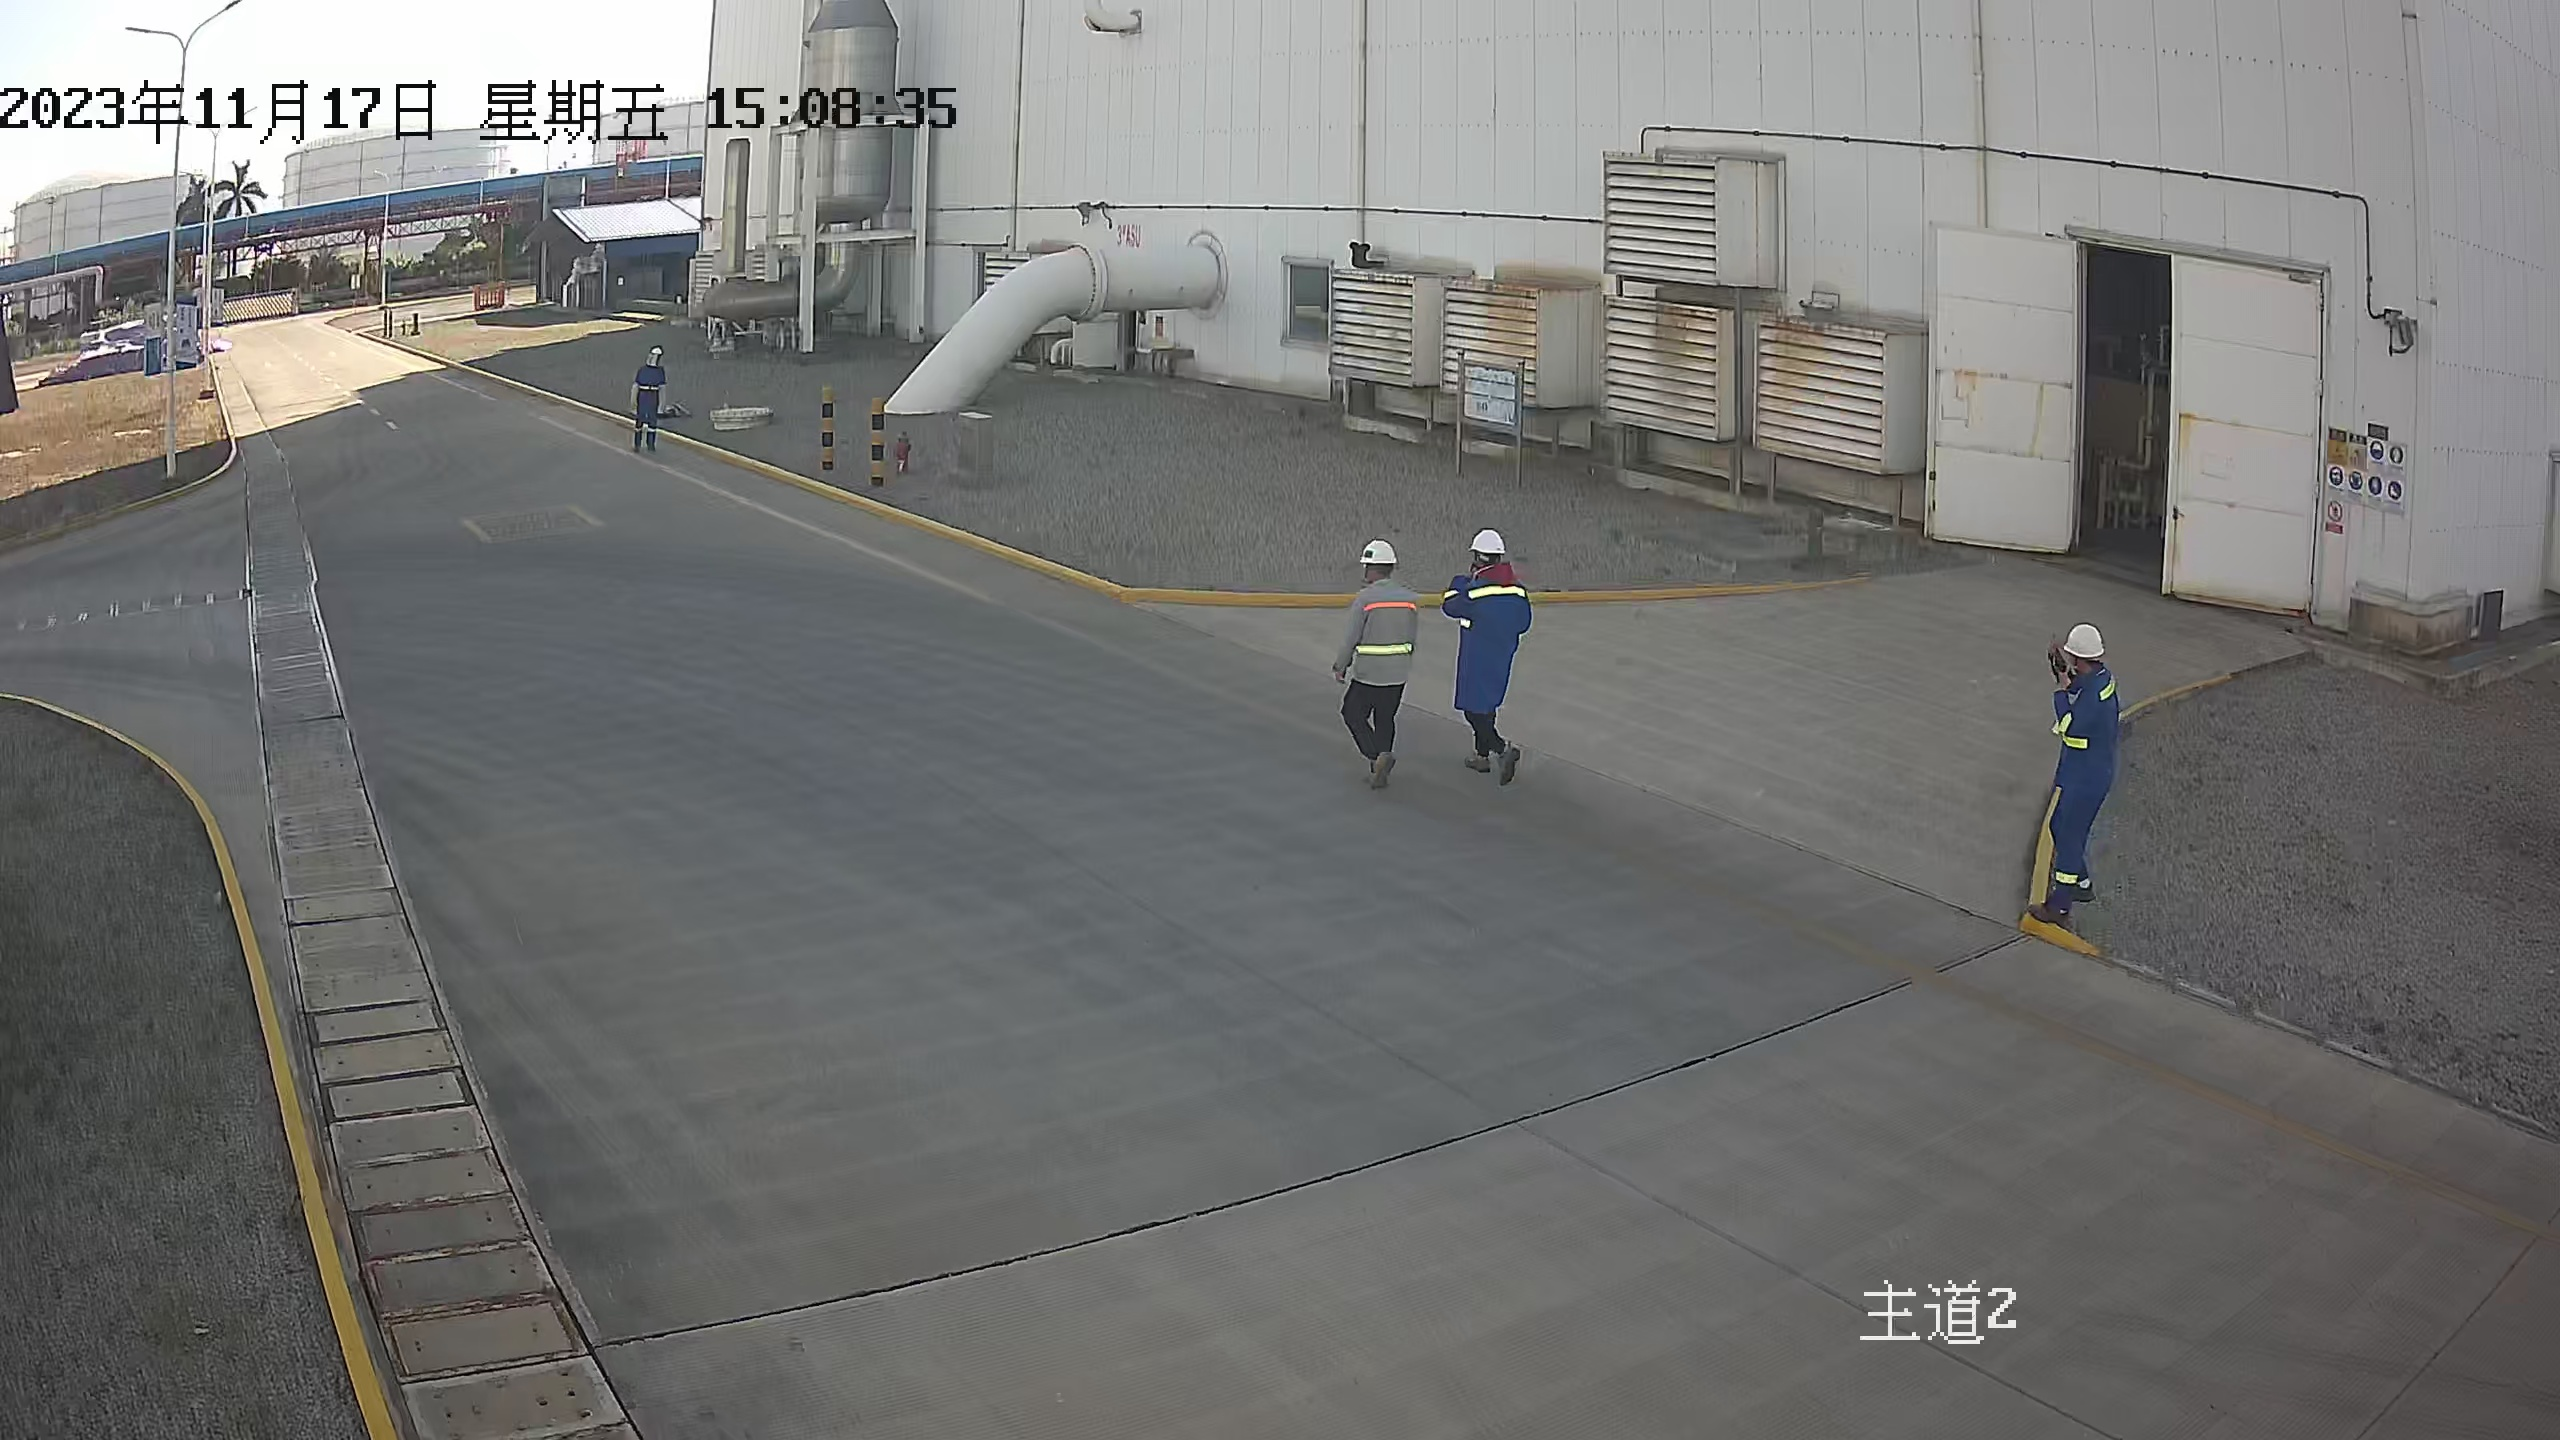Body_without_uniform: (1427, 562, 1557, 793), (1313, 567, 1437, 797)
Head_with_Helmet: (2034, 606, 2122, 677), (1341, 528, 1405, 586), (1453, 517, 1519, 570), (640, 341, 670, 369)
Uniform: (2005, 647, 2153, 945), (623, 362, 680, 458)
